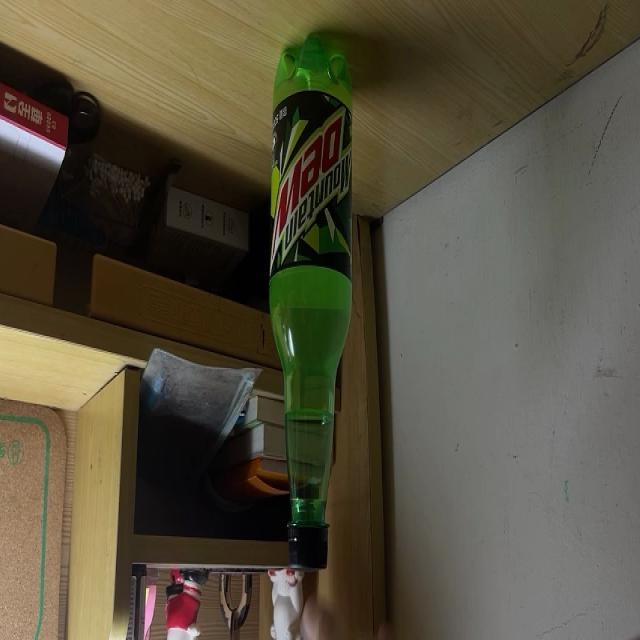Mountain-Dew: (270, 34, 352, 572)
